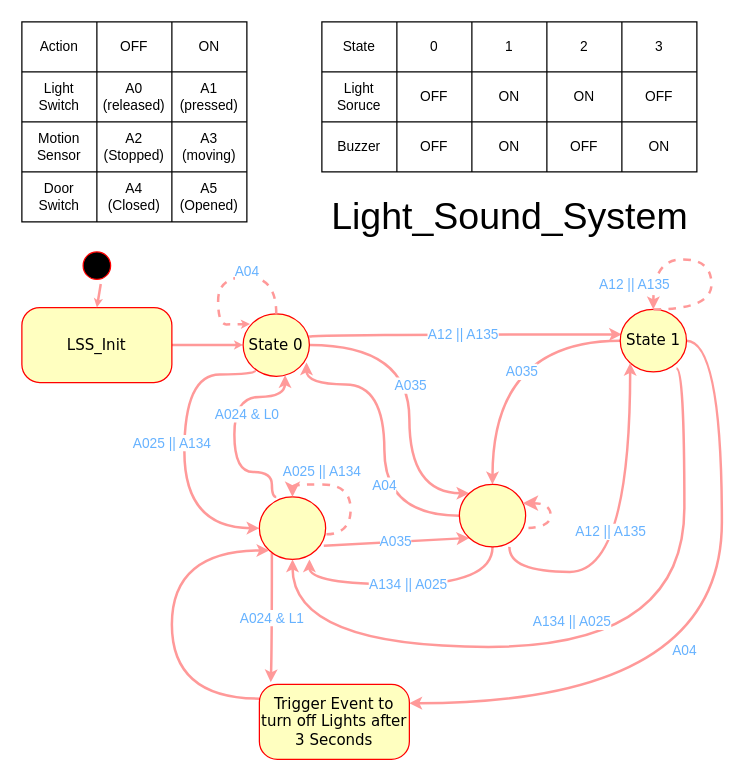
The diagram is 745 pixels wide and 781 high, and some of its shapes have lost their labels. Each missing label, with the centre of its shape:
"State 2" belongs at point 292,527.
"State 3" belongs at point 492,515.
